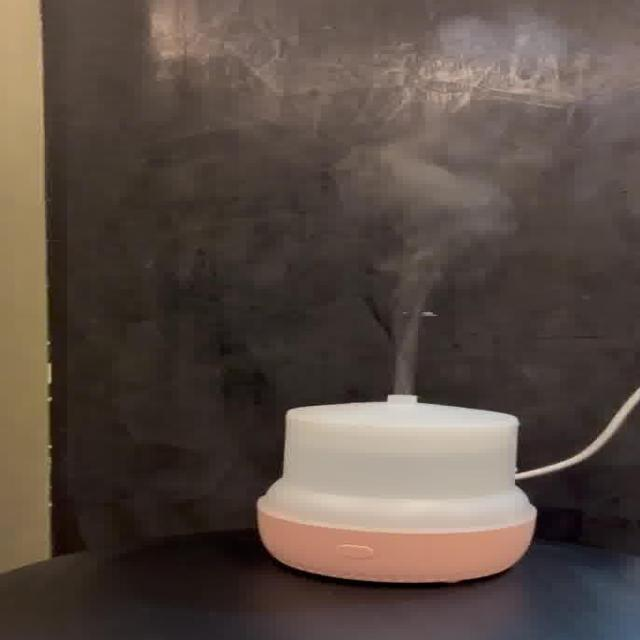fire: (337, 107, 612, 392)
